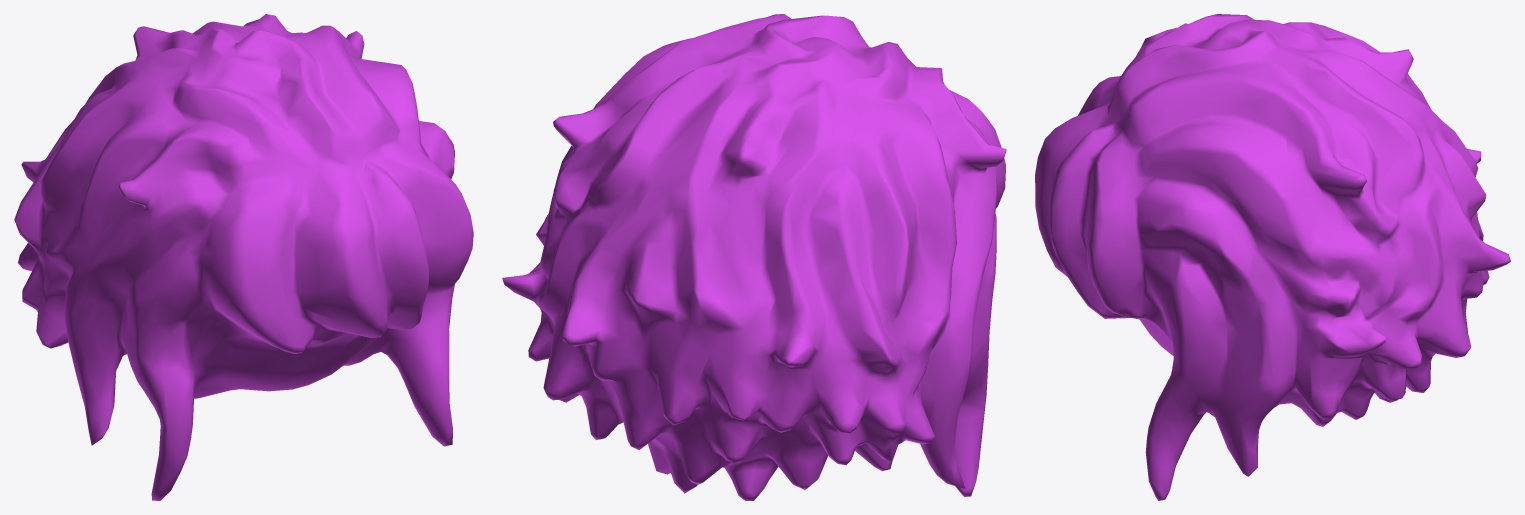
File: SM_ATB_Abbi__Hair_02.FBX
3 renders of one model, left to right at view 1: azimuth 30°, elevation 25°; view 2: azimuth 150°, elevation 25°; view 3: azimuth 270°, elevation 25°, orthographic. The views are drawn at different scales.
Visible parts, largest first — view 1: SM_ATB_Abbi__Hair_02; view 2: SM_ATB_Abbi__Hair_02; view 3: SM_ATB_Abbi__Hair_02.
Part boxes in pixels (<box>): SM_ATB_Abbi__Hair_02: <box>14,14,473,500</box>; SM_ATB_Abbi__Hair_02: <box>502,14,1006,500</box>; SM_ATB_Abbi__Hair_02: <box>1035,14,1510,500</box>.
Size of what is drawn, in the model's own units: 113 by 129 by 120.
